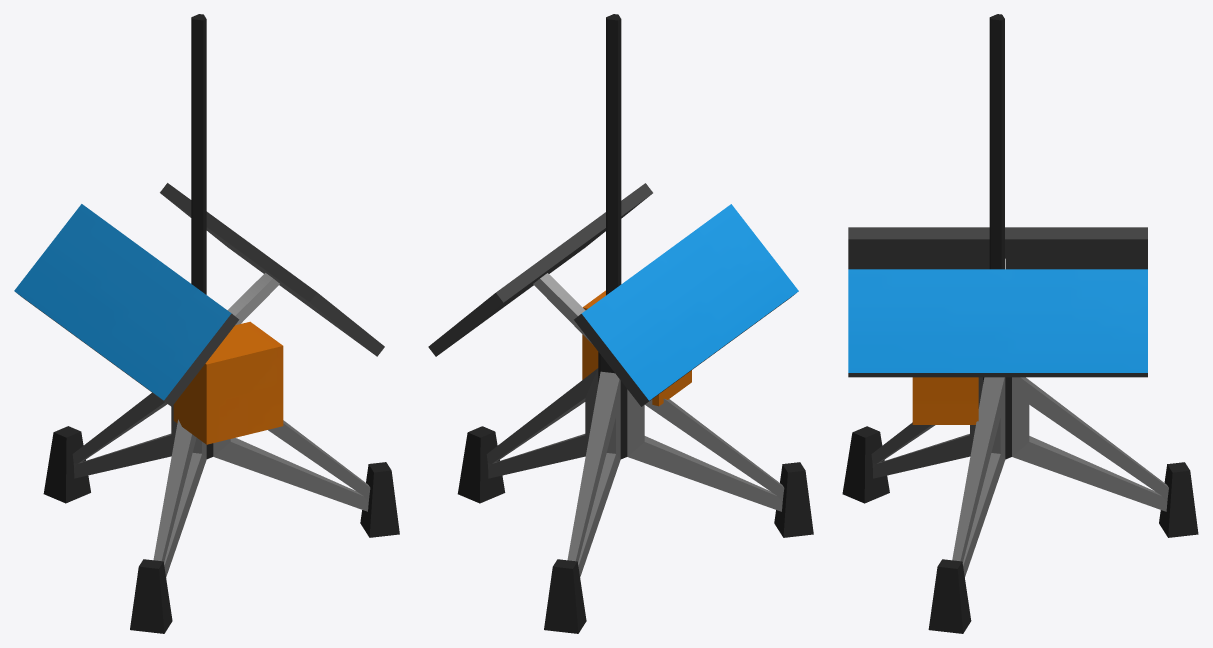
Rendered from M_Beacon.fbx.
The picture shows the model from 3 angles, left to right: view 1: azimuth 30°, elevation 25°; view 2: azimuth 150°, elevation 25°; view 3: azimuth 270°, elevation 25°; orthographic projection.
Parts seen in each view (by area): view 1: M_Beacon; view 2: M_Beacon; view 3: M_Beacon.
Part boxes in pixels (box(x1,y1,x2,y2)): M_Beacon: box(14, 14, 399, 633); M_Beacon: box(428, 14, 813, 633); M_Beacon: box(842, 14, 1198, 633).
Bounding box in the file's own units: 4.04 × 6.66 × 4.04.
1 material, 1 textured.
